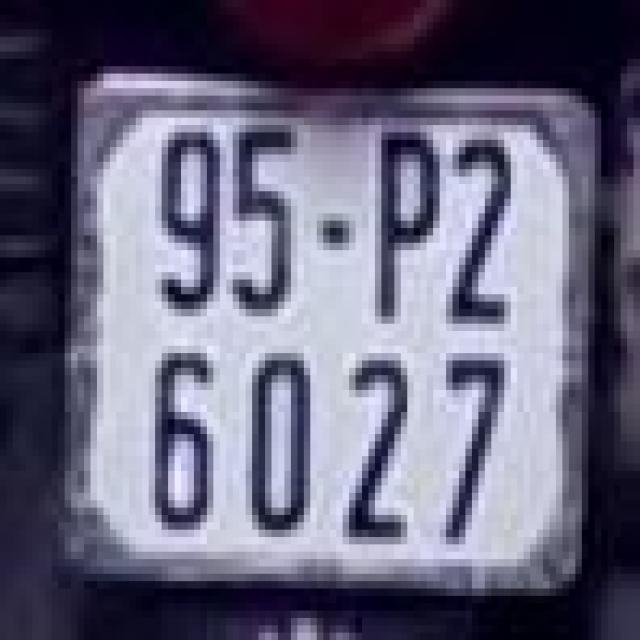0: (239, 338, 323, 552)
2: (339, 338, 417, 552), (446, 121, 517, 342)
5: (226, 121, 304, 335)
6: (133, 334, 223, 540)
7: (424, 342, 520, 548)
9: (136, 110, 232, 316)
P: (359, 110, 443, 338)
